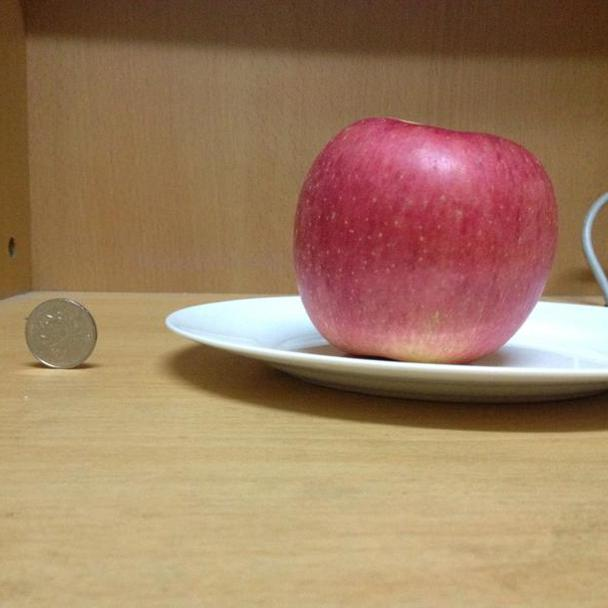apple: (291, 116, 559, 364)
